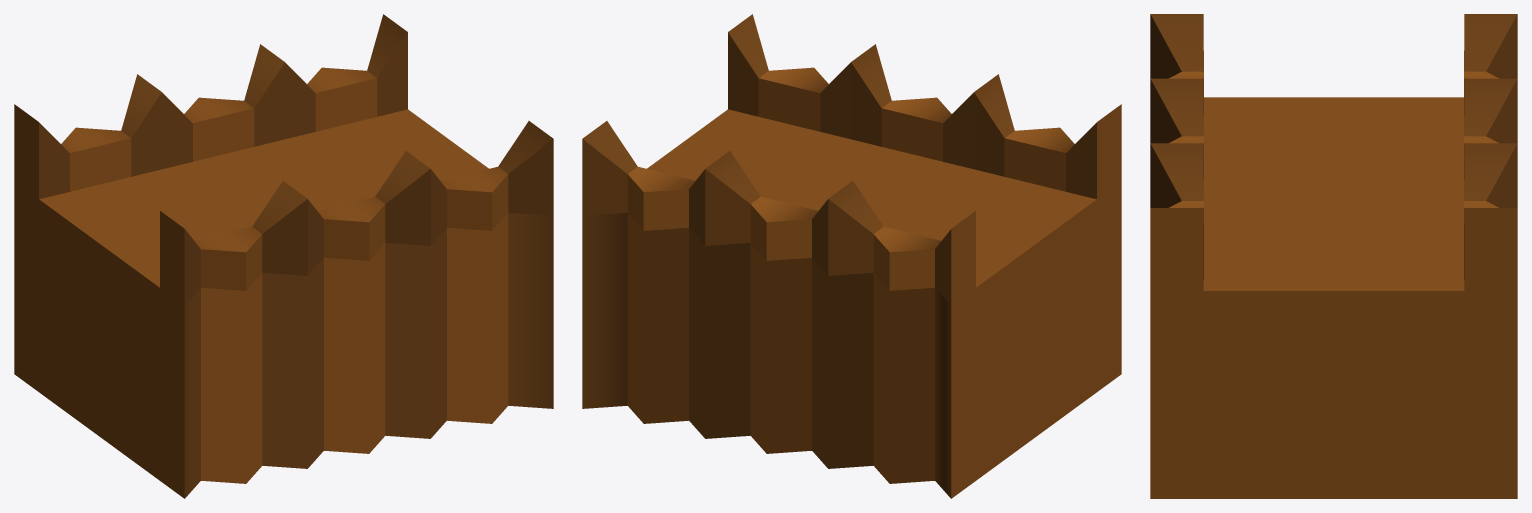
Rendered from 1x1x5_twosided_wood.fbx.
3 views of the same model, side by side, from view 1: azimuth 30°, elevation 25°; view 2: azimuth 150°, elevation 25°; view 3: azimuth 270°, elevation 25° (orthographic). The views are drawn at different scales.
Visible parts, largest first — view 1: x1x5_twosided_wood:polySurface2; view 2: x1x5_twosided_wood:polySurface2; view 3: x1x5_twosided_wood:polySurface2.
Boxes of the visible parts, x1,y1,x2,y2 form: x1x5_twosided_wood:polySurface2: [14, 14, 553, 498]; x1x5_twosided_wood:polySurface2: [582, 14, 1121, 498]; x1x5_twosided_wood:polySurface2: [1150, 14, 1517, 498].
Size of the model in its own units: 100 by 70 by 80.
1 material, 1 textured.
